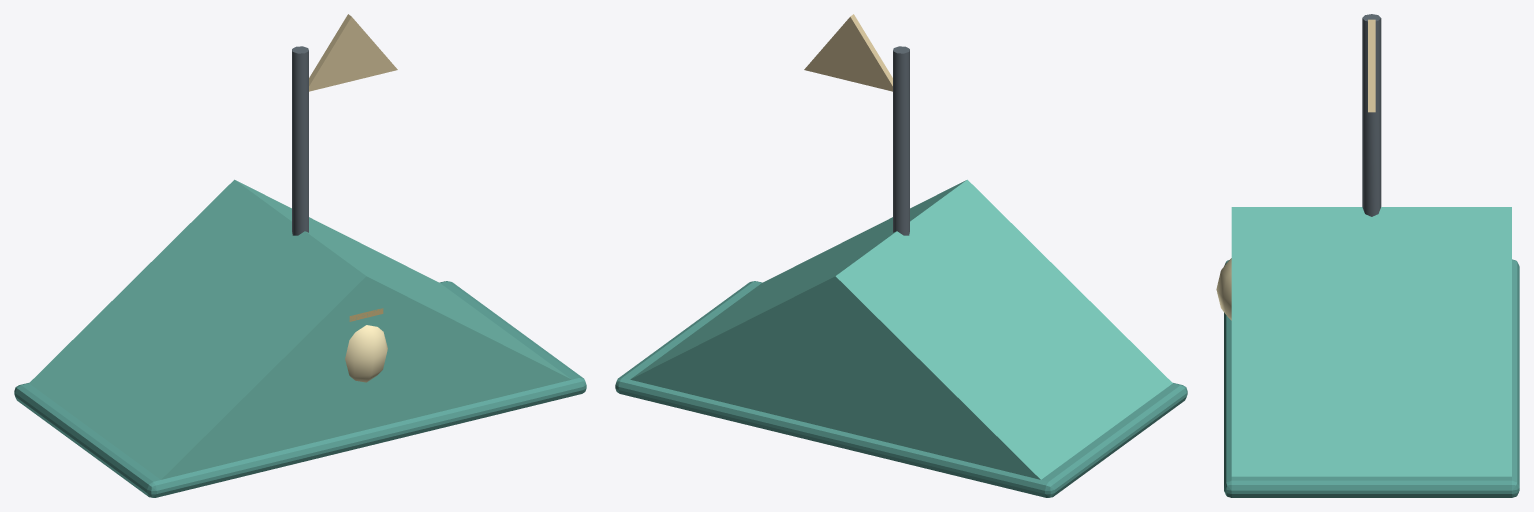
Rendered from home_roof.glb.
The picture shows the model from 3 angles, left to right: view 1: azimuth 30°, elevation 25°; view 2: azimuth 150°, elevation 25°; view 3: azimuth 270°, elevation 25°; orthographic projection. The views are drawn at different scales.
Parts seen in each view (by area): view 1: home_roof_Palette, home_roof_Glow; view 2: home_roof_Palette; view 3: home_roof_Palette, home_roof_Glow.
Part boxes in pixels (x1,y1,x2,y2): home_roof_Palette: (14, 14, 586, 497); home_roof_Glow: (345, 325, 387, 382); home_roof_Palette: (615, 14, 1187, 497); home_roof_Palette: (1224, 14, 1519, 497); home_roof_Glow: (1216, 258, 1231, 320).
Size of the model in its own units: 1.42 by 1.15 by 0.8.
